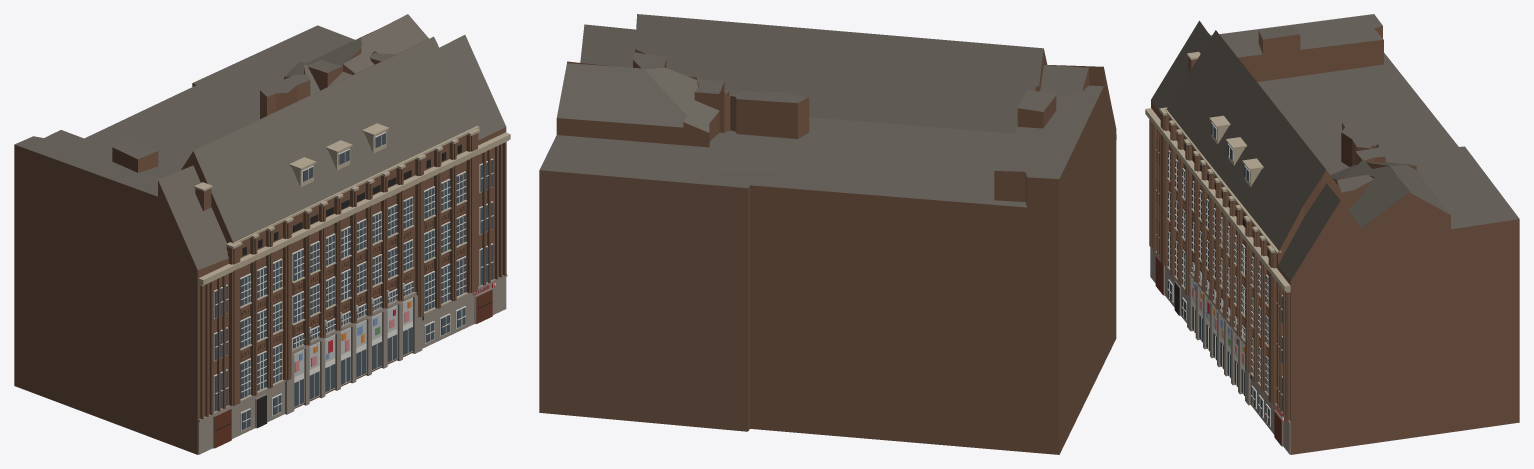
Rendered from sarphatistraat-47.glb.
3 renders of one model, left to right at view 1: azimuth 30°, elevation 25°; view 2: azimuth 150°, elevation 25°; view 3: azimuth 270°, elevation 25°, orthographic. The views are drawn at different scales.
Parts seen in each view (by area): view 1: sarphatistraat-47; view 2: sarphatistraat-47; view 3: sarphatistraat-47.
Boxes of the visible parts, x1=… form: sarphatistraat-47: x1=14, y1=14, x2=510, y2=454; sarphatistraat-47: x1=539, y1=14, x2=1116, y2=454; sarphatistraat-47: x1=1145, y1=14, x2=1519, y2=454.
Bounding box in the file's own units: 41.34 × 23.91 × 31.15.
